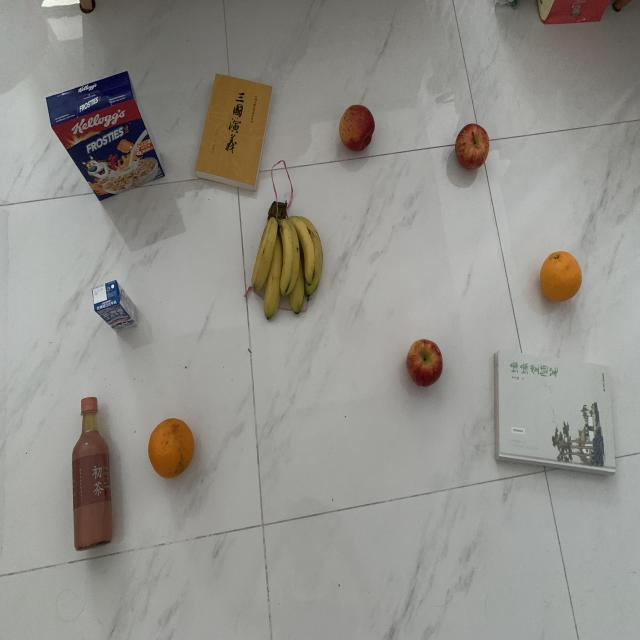Apple: (404, 337, 448, 389), (338, 102, 376, 156), (454, 121, 491, 172)
Banana: (248, 198, 328, 321)
Book: (491, 353, 621, 482), (195, 71, 272, 192)
Cerealbox: (40, 68, 167, 205)
Orange: (148, 416, 196, 482), (536, 249, 586, 307)
